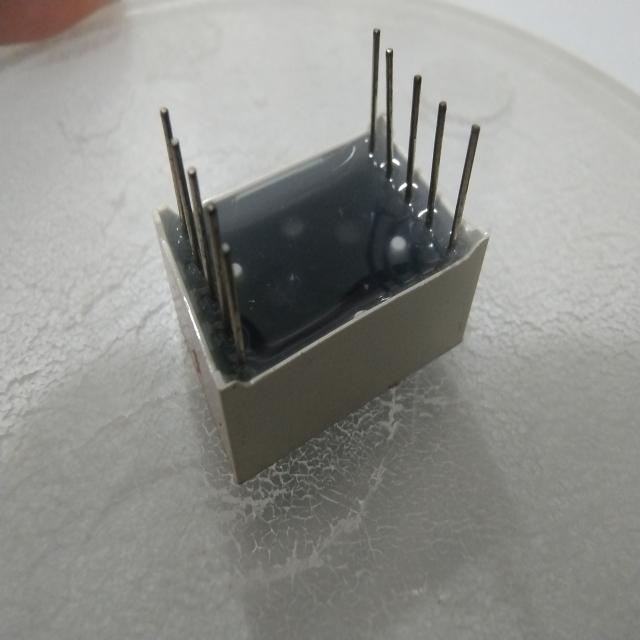7_segments: (136, 18, 498, 488)
